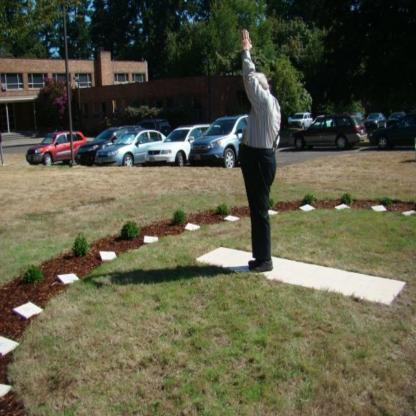Car: (28, 109, 416, 170), (288, 111, 416, 150)
